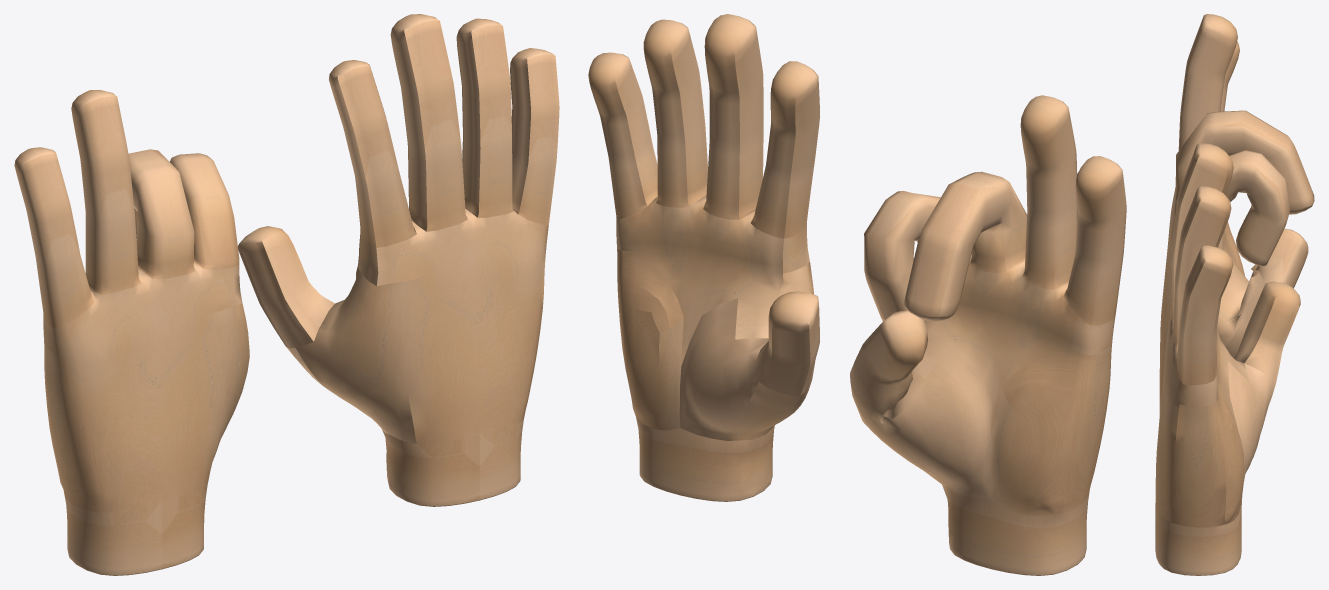
The model's file is manosiete17.fbx.
The picture shows the model from 3 angles, left to right: view 1: azimuth 30°, elevation 25°; view 2: azimuth 150°, elevation 25°; view 3: azimuth 270°, elevation 25°; orthographic projection. The views are drawn at different scales.
Parts seen in each view (by area): view 1: uploads_files_810024_Hand; view 2: uploads_files_810024_Hand; view 3: uploads_files_810024_Hand.
Boxes of the visible parts, x1=… form: uploads_files_810024_Hand: x1=14, y1=14, x2=559, y2=575; uploads_files_810024_Hand: x1=588, y1=14, x2=1126, y2=575; uploads_files_810024_Hand: x1=1155, y1=14, x2=1314, y2=575.
Bounding box in the file's own units: 2.76 × 2.33 × 0.8544.
2 materials, 2 textured.
